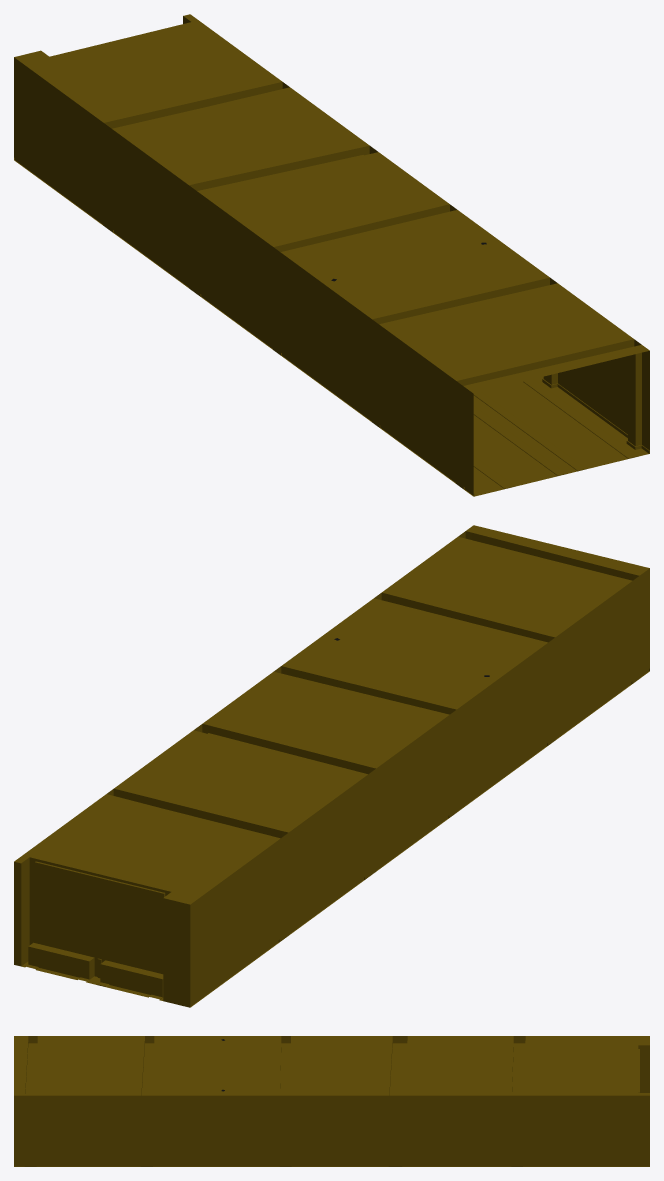
The model's file is bolos.fbx.
3 views of the same model, one above another, from view 1: azimuth 30°, elevation 25°; view 2: azimuth 150°, elevation 25°; view 3: azimuth 270°, elevation 25° (orthographic). The views are drawn at different scales.
Parts seen in each view (by area): view 1: BowlingAlley; view 2: BowlingAlley; view 3: BowlingAlley.
Part boxes in pixels (left/top/right/bottom): BowlingAlley: left=14, top=14, right=649, bottom=496; BowlingAlley: left=14, top=525, right=649, bottom=1007; BowlingAlley: left=14, top=1036, right=649, bottom=1166.
Size of the model in its own units: 1318 by 737 by 5952.
